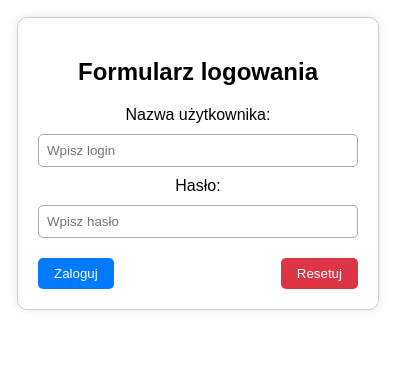
Test: Test formularza logowania › Powinien pokazać komunikat o brakujących danych
Click the button with id "login-button" at (76, 274), box top-left (38, 258), bottom-right (114, 289)
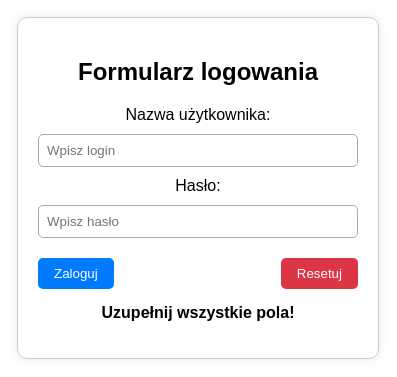
Expected: the text with id "message" reads "Uzupełnij wszystkie pola!", top-left (102, 304), bottom-right (295, 321)
